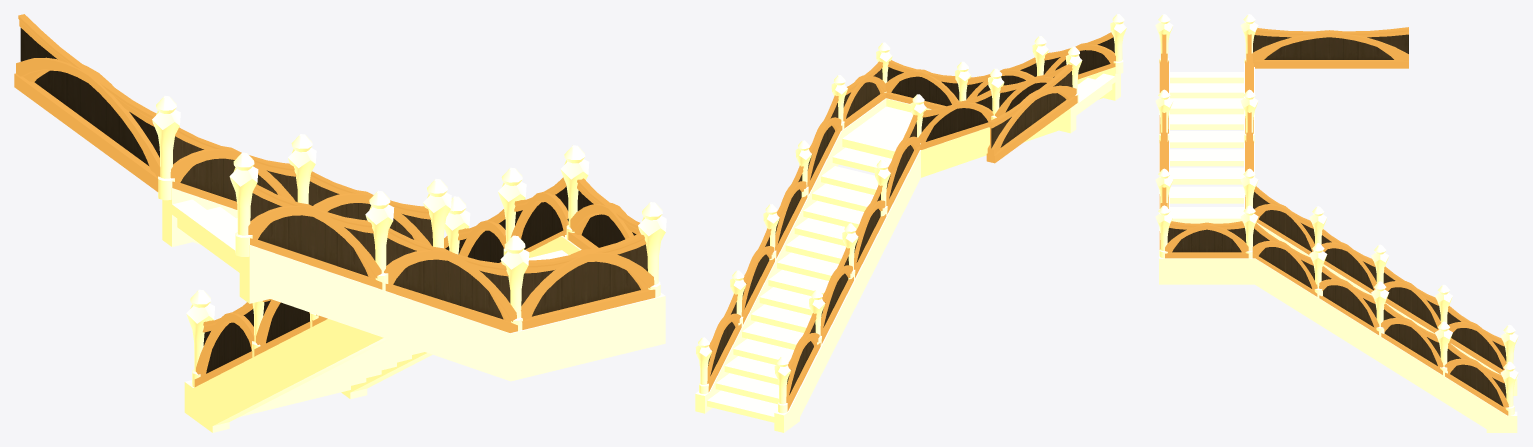
The model's file is Homeworld_Interior_Xm_Room_P_Stair_01_01_Vo.fbx.
3 views of the same model, side by side, from view 1: azimuth 30°, elevation 25°; view 2: azimuth 150°, elevation 25°; view 3: azimuth 270°, elevation 25° (orthographic). The views are drawn at different scales.
Visible parts, largest first — view 1: Homeworld_Interior_Xm_Room_P_Stair_01_01_Vo; view 2: Homeworld_Interior_Xm_Room_P_Stair_01_01_Vo; view 3: Homeworld_Interior_Xm_Room_P_Stair_01_01_Vo.
Boxes of the visible parts, box(x1,y1,x2,y2) form: Homeworld_Interior_Xm_Room_P_Stair_01_01_Vo: box(14, 14, 666, 432); Homeworld_Interior_Xm_Room_P_Stair_01_01_Vo: box(695, 14, 1126, 432); Homeworld_Interior_Xm_Room_P_Stair_01_01_Vo: box(1155, 14, 1518, 432).
Bounding box in the file's own units: 4.93 × 6.01 × 6.46.
